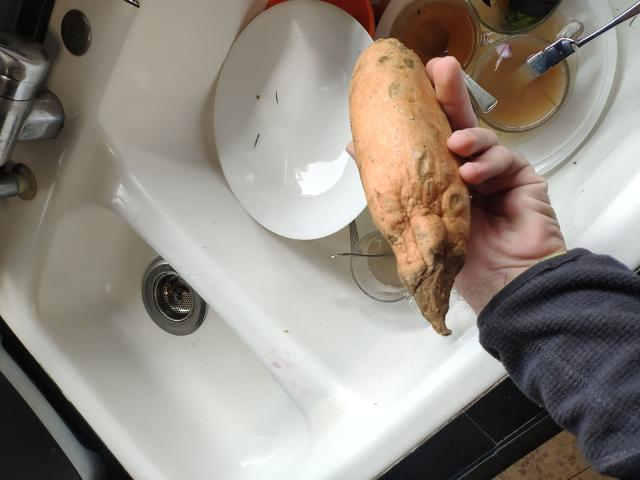sweet_potato: (340, 39, 470, 337)
